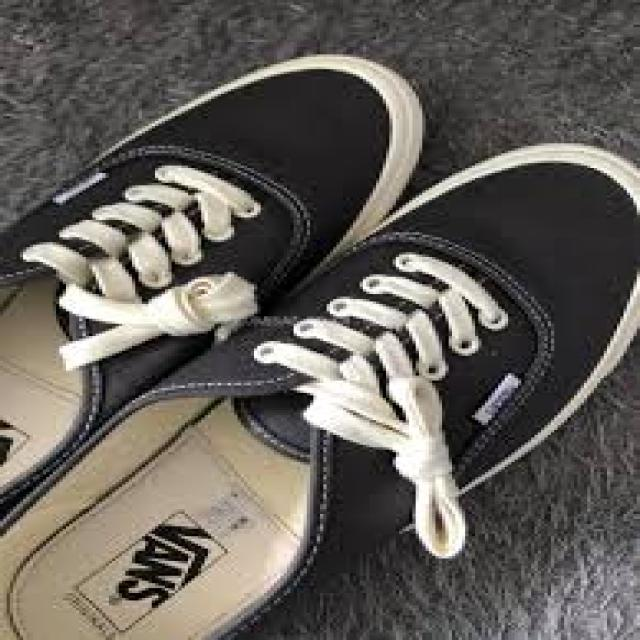shoe: (0, 146, 640, 640), (0, 54, 426, 531)
